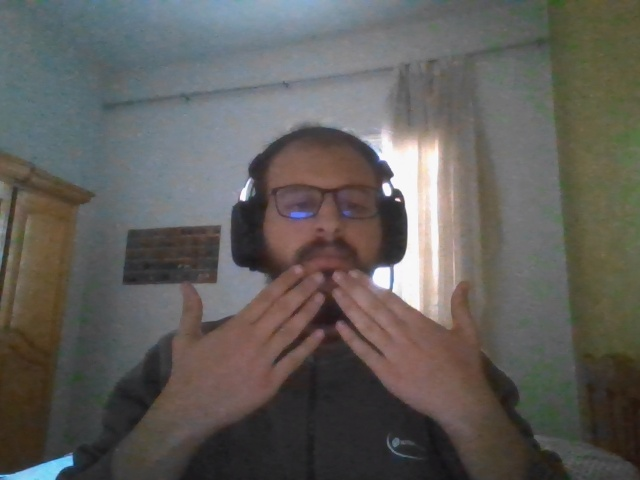Thank You: (178, 268, 480, 426)
